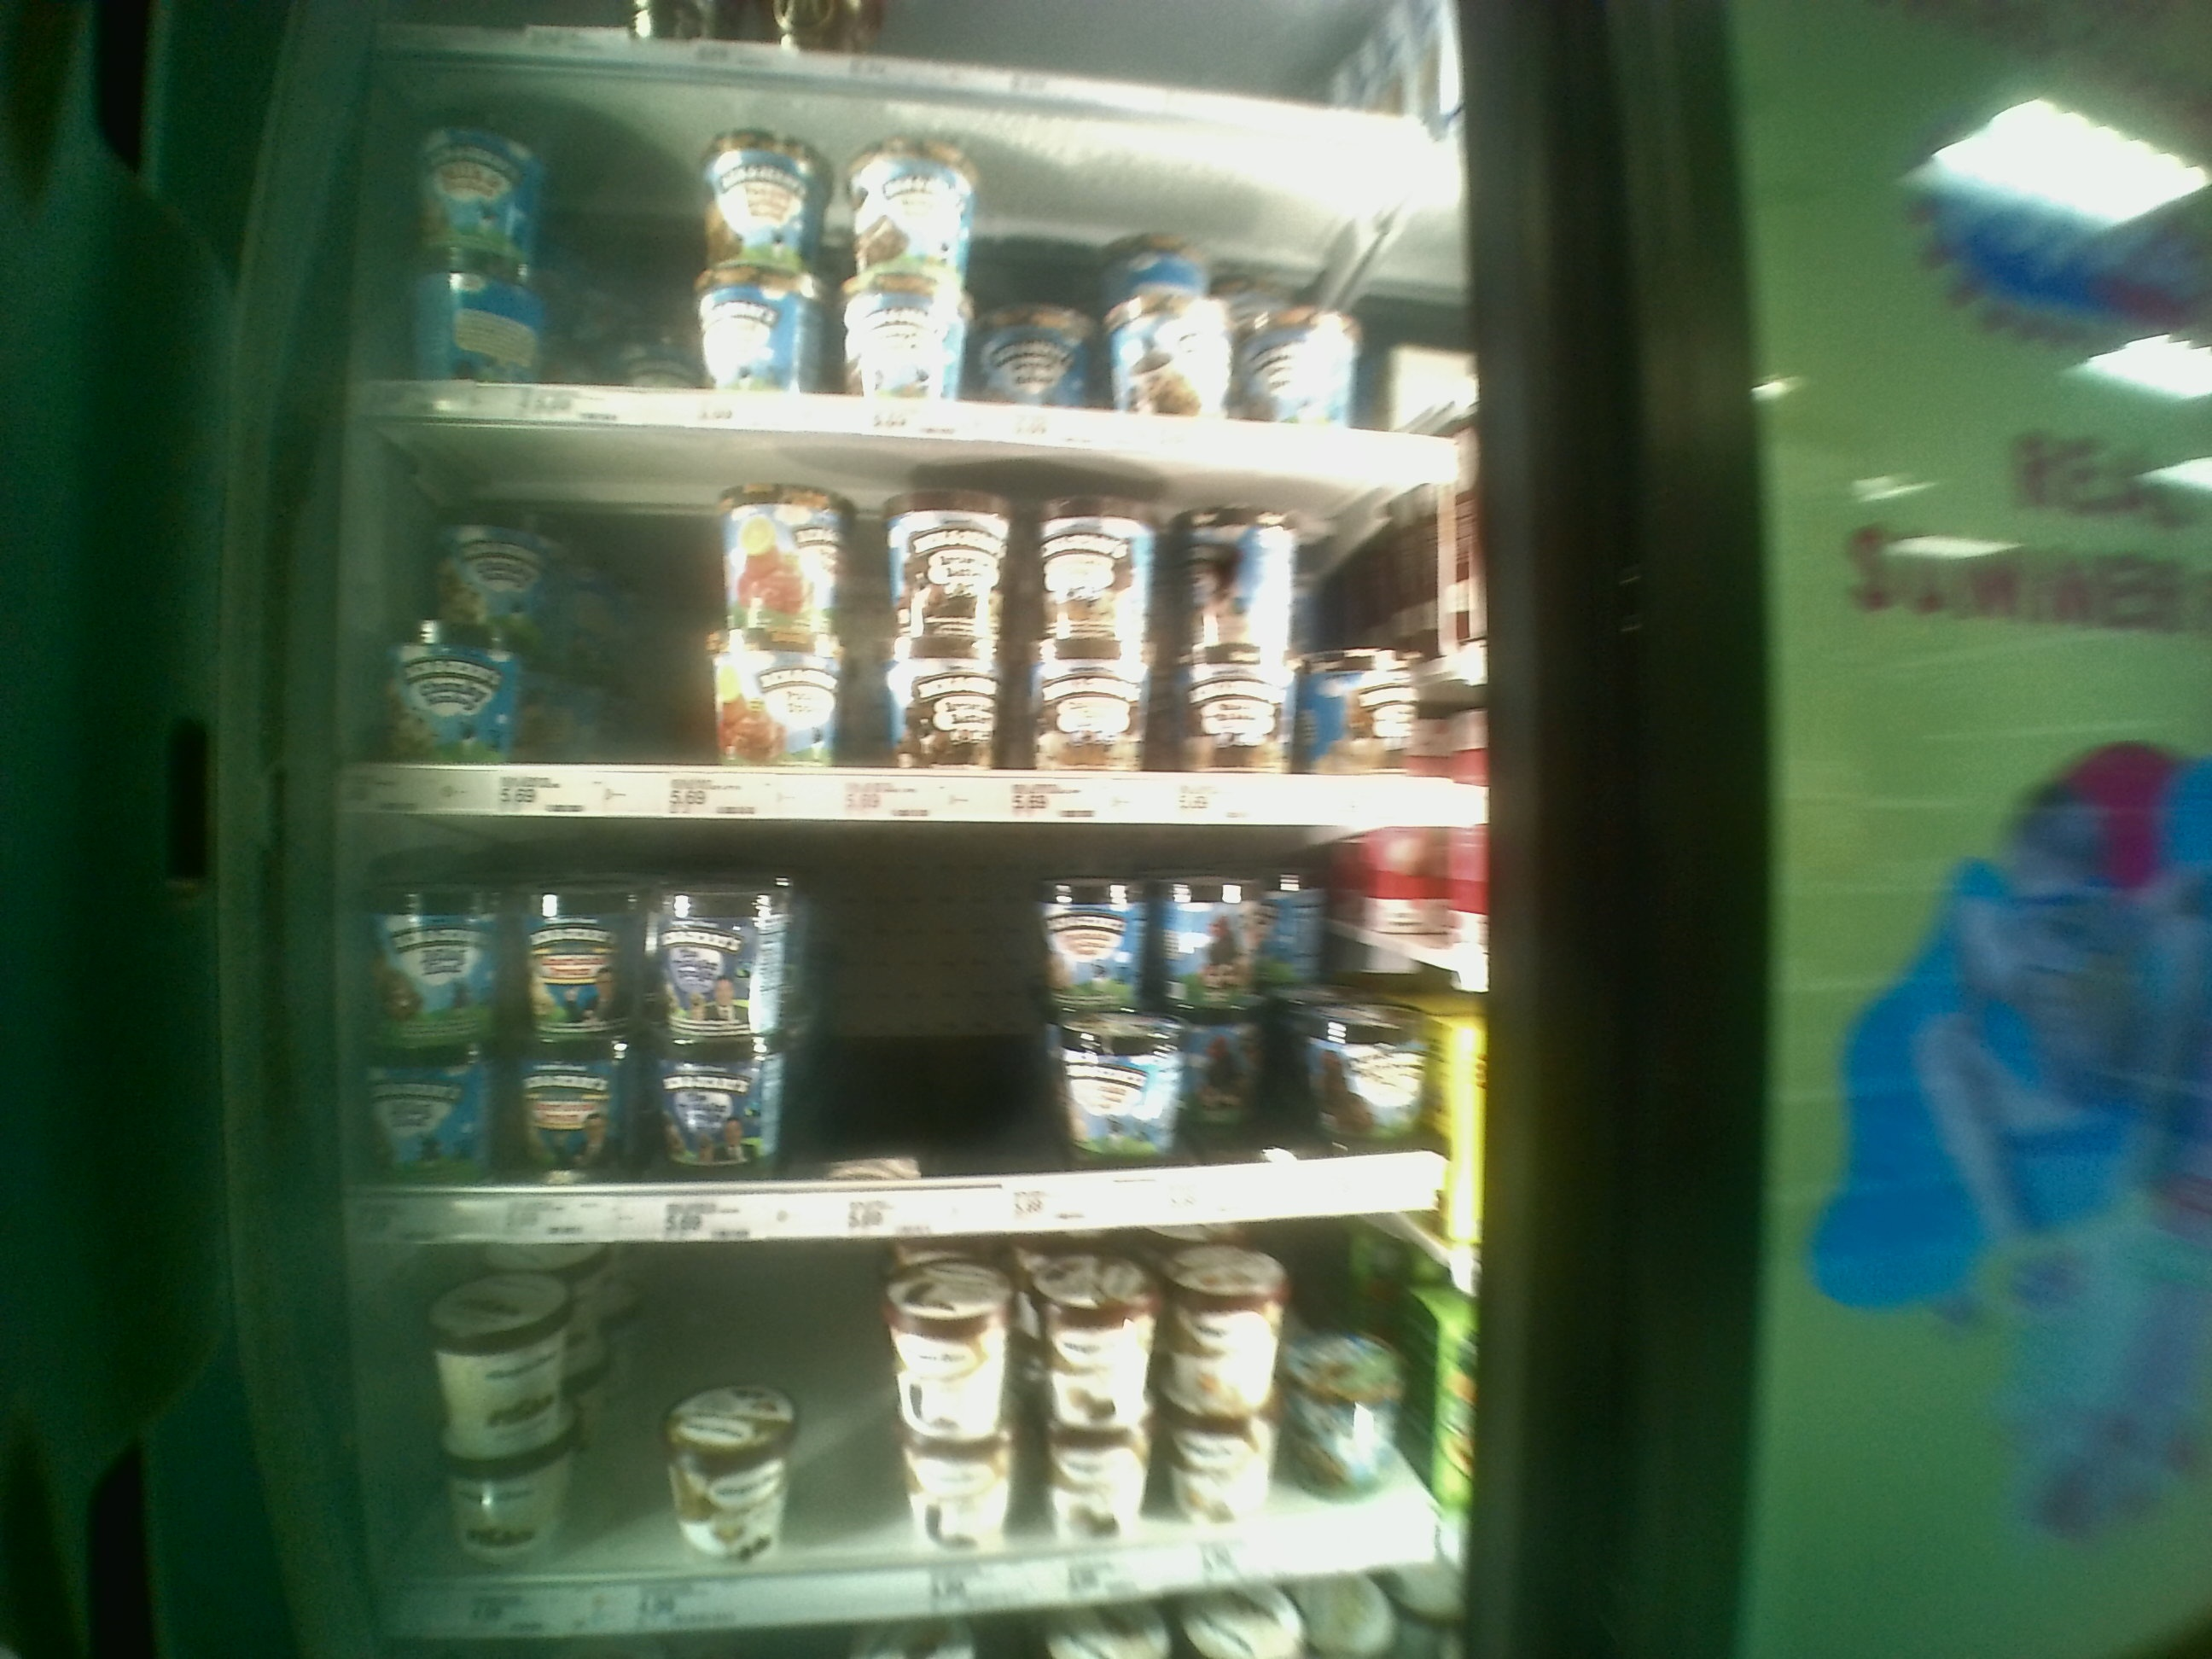ice-cream-shelf: (331, 819, 1463, 1239), (343, 422, 1474, 828)
